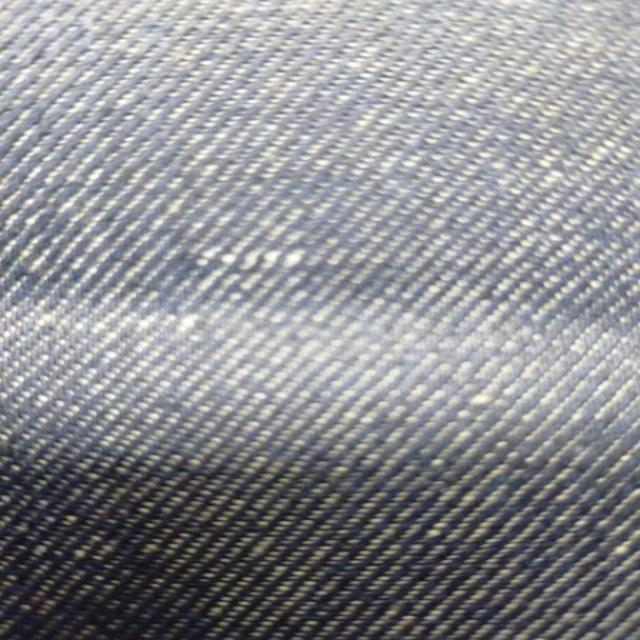Knot: (220, 249, 306, 271)
